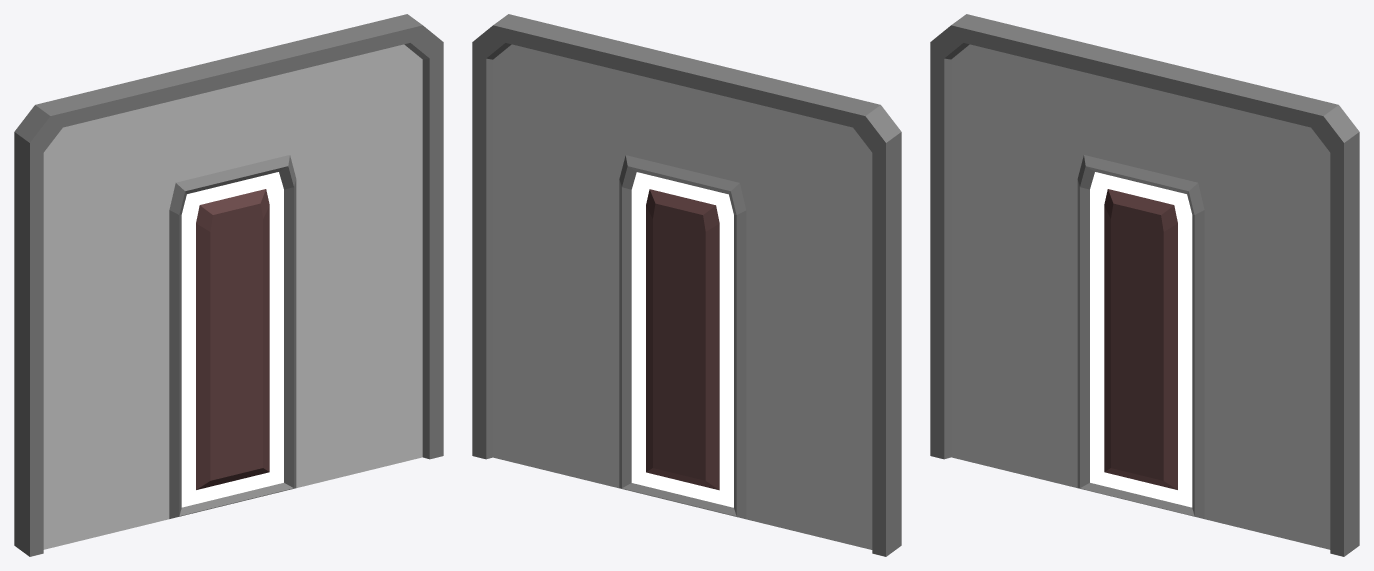
The model's file is Hall_Door.fbx.
3 views of the same model, side by side, from view 1: azimuth 30°, elevation 25°; view 2: azimuth 150°, elevation 25°; view 3: azimuth 330°, elevation 25° (orthographic).
Visible parts, largest first — view 1: Hall_Door; view 2: Hall_Door; view 3: Hall_Door.
Part boxes in pixels (x1,y1,x2,y2): Hall_Door: (14,14,443,556); Hall_Door: (472,14,901,556); Hall_Door: (930,14,1359,556).
Size of the model in its own units: 791 by 796 by 51.17.
